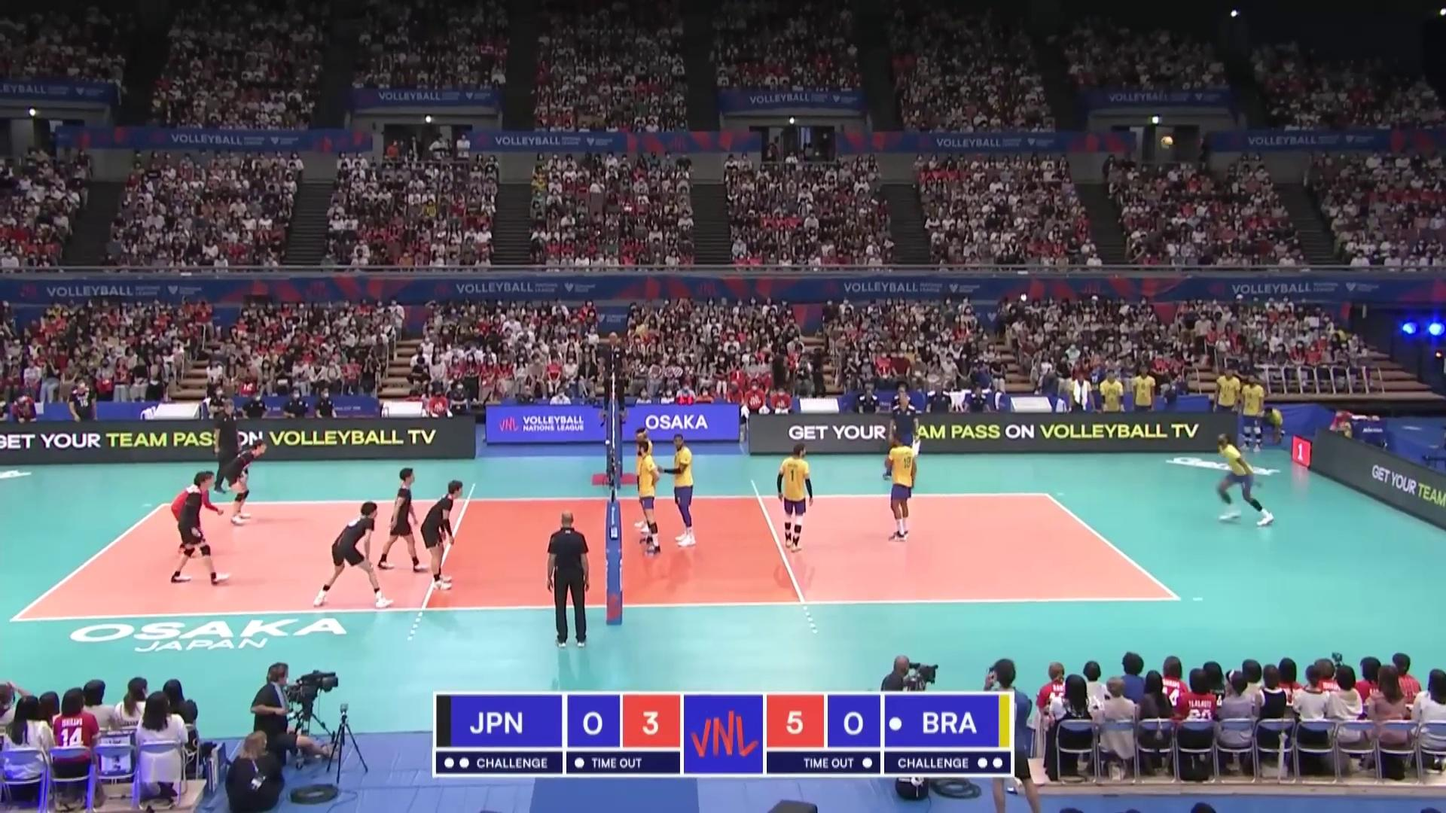player: (314, 502, 392, 610), (171, 473, 228, 587), (1214, 434, 1273, 526), (421, 480, 463, 592), (378, 469, 425, 569), (173, 469, 222, 559), (776, 444, 813, 552), (662, 435, 696, 545), (226, 439, 267, 524), (885, 432, 916, 540), (635, 442, 662, 557), (633, 425, 656, 533)
refree: (546, 514, 592, 647), (599, 330, 626, 427)
